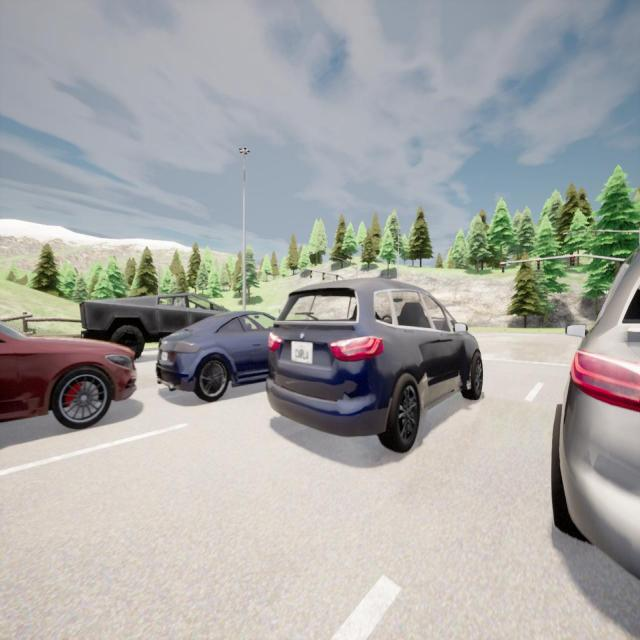Vehicle: (266, 278, 482, 450), (551, 245, 640, 577), (0, 316, 137, 429), (156, 310, 276, 402), (80, 294, 226, 358)
traffic_light: (570, 256, 575, 267), (537, 260, 540, 270), (502, 263, 504, 273), (310, 270, 312, 279), (322, 272, 324, 280), (336, 276, 338, 280)
